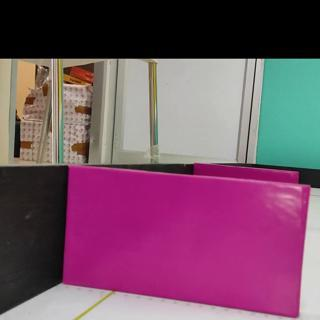xparking: (63, 164, 311, 315), (195, 162, 297, 181)
